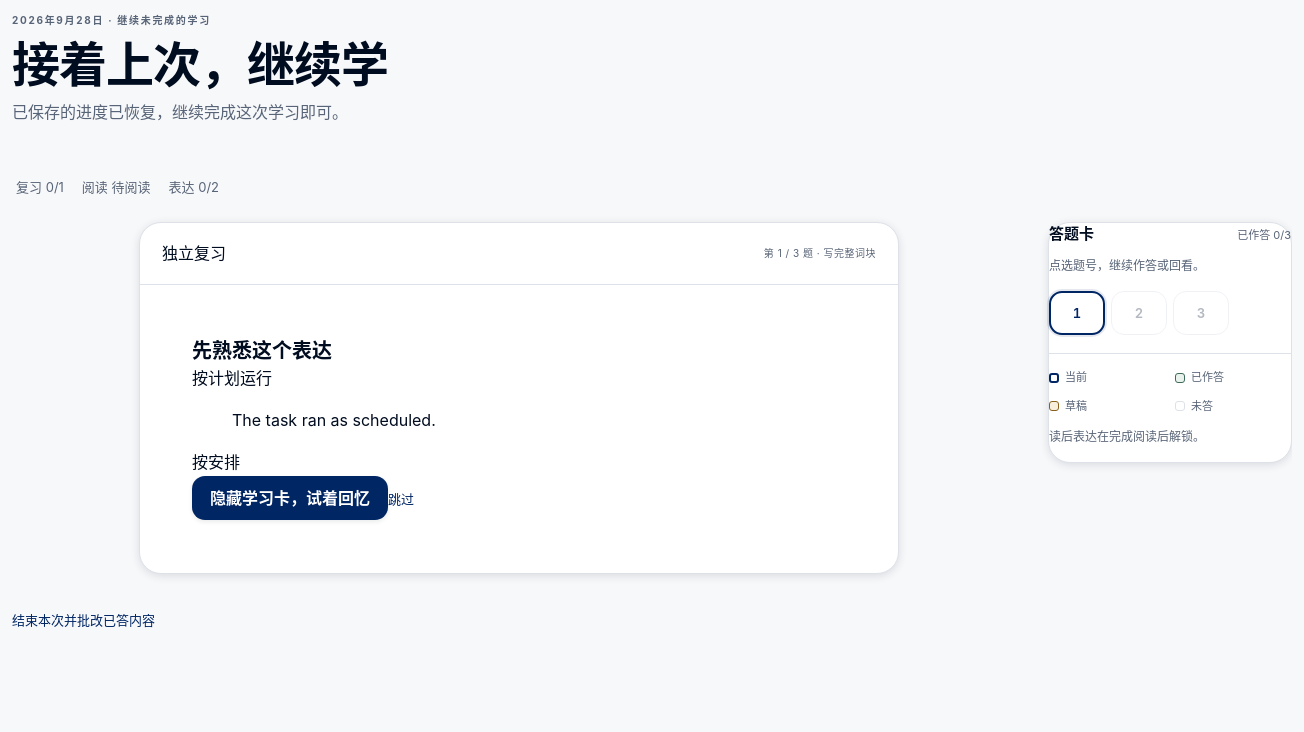
Test: lesson phases and evidence › does not treat a hidden learning card as independent prior knowledge
Expected: the heading "先熟悉这个表达" is shown, [192,338,332,362]
Click the button "隐藏学习卡，试着回忆".
click(290, 498)  # box [192,476,388,520]
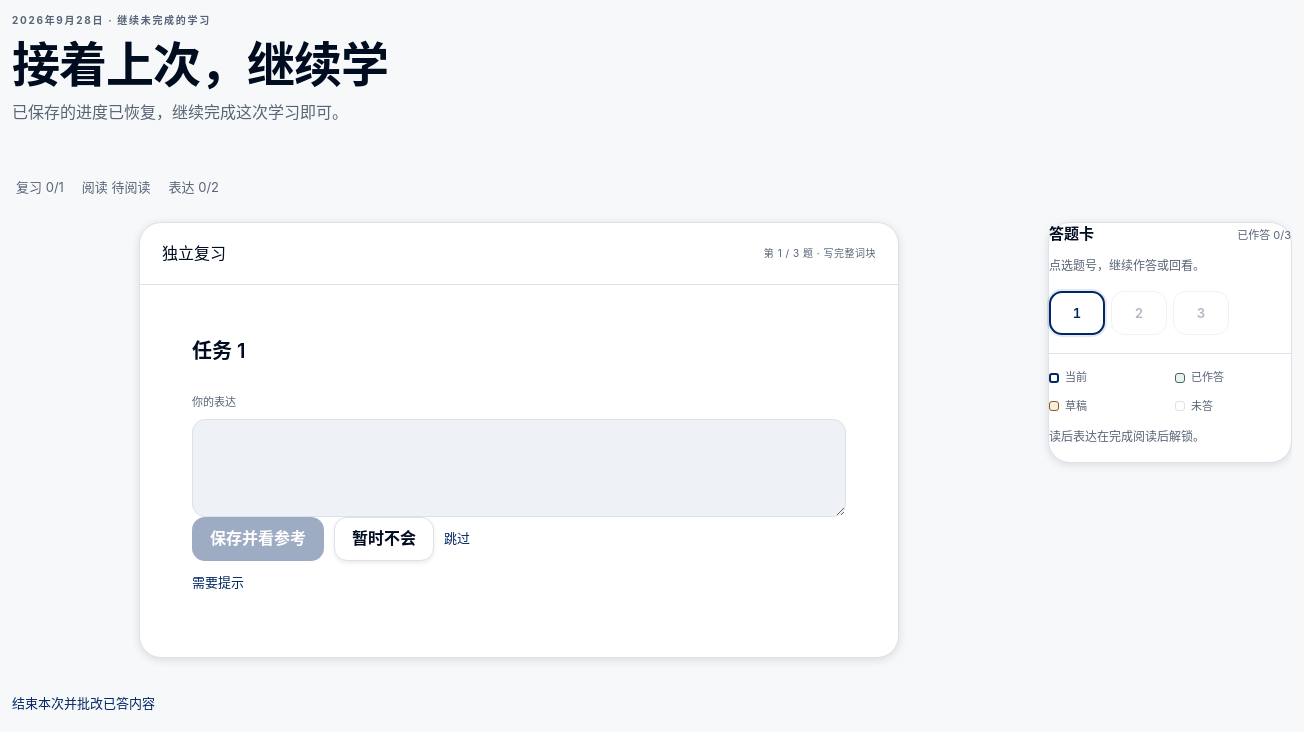
Expected: the text box is shown, [192,419,846,517]
